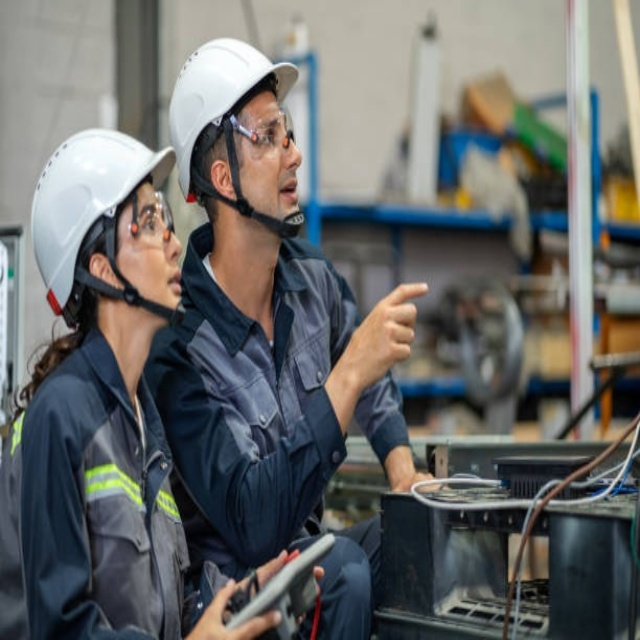Gafas: (114, 188, 177, 251), (238, 104, 299, 155)
Sin_guantes: (344, 276, 434, 386), (186, 554, 297, 640)
Sin_mascara: (271, 171, 300, 212), (156, 259, 183, 303)
